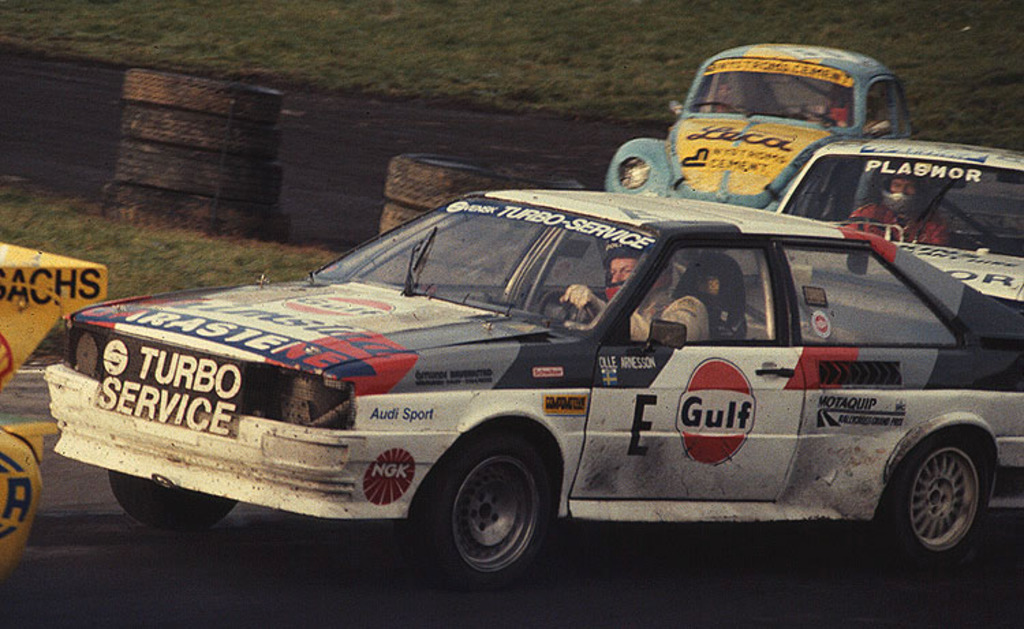Car: (49, 185, 1022, 596), (607, 36, 928, 214), (704, 133, 1022, 309), (0, 241, 109, 581)
